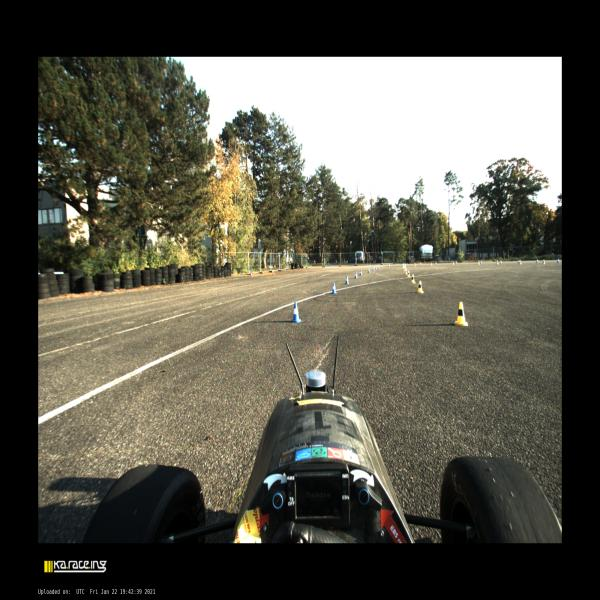blue_cone: (290, 302, 302, 323), (331, 282, 336, 294), (345, 276, 349, 284), (354, 272, 358, 278), (367, 268, 370, 274), (372, 267, 375, 271), (374, 266, 377, 270), (380, 264, 383, 268), (377, 264, 380, 268), (360, 270, 362, 275), (557, 258, 559, 263), (419, 262, 422, 265), (536, 259, 538, 263), (480, 260, 482, 264), (435, 262, 437, 265), (500, 260, 502, 263), (518, 260, 520, 263), (388, 264, 390, 267), (455, 261, 457, 264)
yellow_cone: (454, 302, 468, 326), (418, 281, 424, 293), (411, 274, 415, 283), (407, 270, 410, 277), (542, 259, 545, 264), (496, 260, 499, 264), (519, 260, 522, 264), (405, 269, 407, 274), (402, 264, 404, 269), (414, 262, 416, 266), (478, 260, 480, 264), (404, 263, 406, 267), (430, 262, 432, 266), (452, 260, 454, 264), (404, 266, 405, 272)
